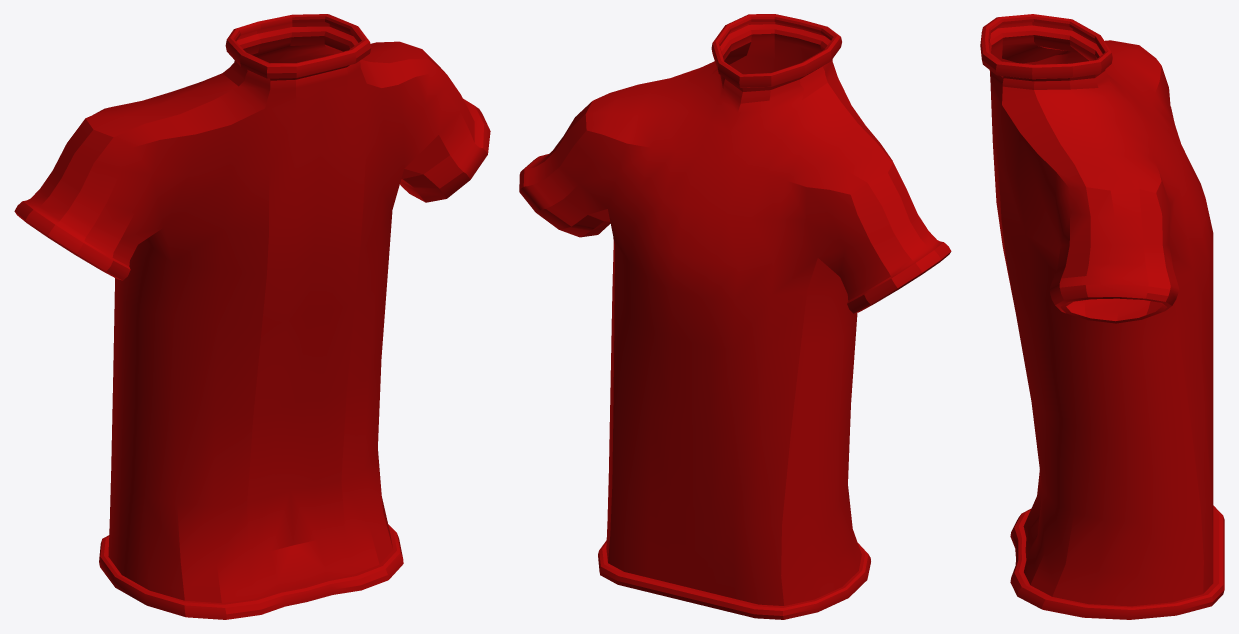
The model's file is red tshirt.fbx.
The picture shows the model from 3 angles, left to right: view 1: azimuth 30°, elevation 25°; view 2: azimuth 150°, elevation 25°; view 3: azimuth 270°, elevation 25°; orthographic projection. The views are drawn at different scales.
Visible parts, largest first — view 1: menino_polySurface18_menino_polySurface53_menino_polySurface; view 2: menino_polySurface18_menino_polySurface53_menino_polySurface; view 3: menino_polySurface18_menino_polySurface53_menino_polySurface.
Part boxes in pixels (x1,y1,x2,y2): menino_polySurface18_menino_polySurface53_menino_polySurface: (14,14,490,619); menino_polySurface18_menino_polySurface53_menino_polySurface: (519,14,951,619); menino_polySurface18_menino_polySurface53_menino_polySurface: (980,14,1224,619).
Size of the model in its own units: 41.99 by 49.06 by 20.78.
